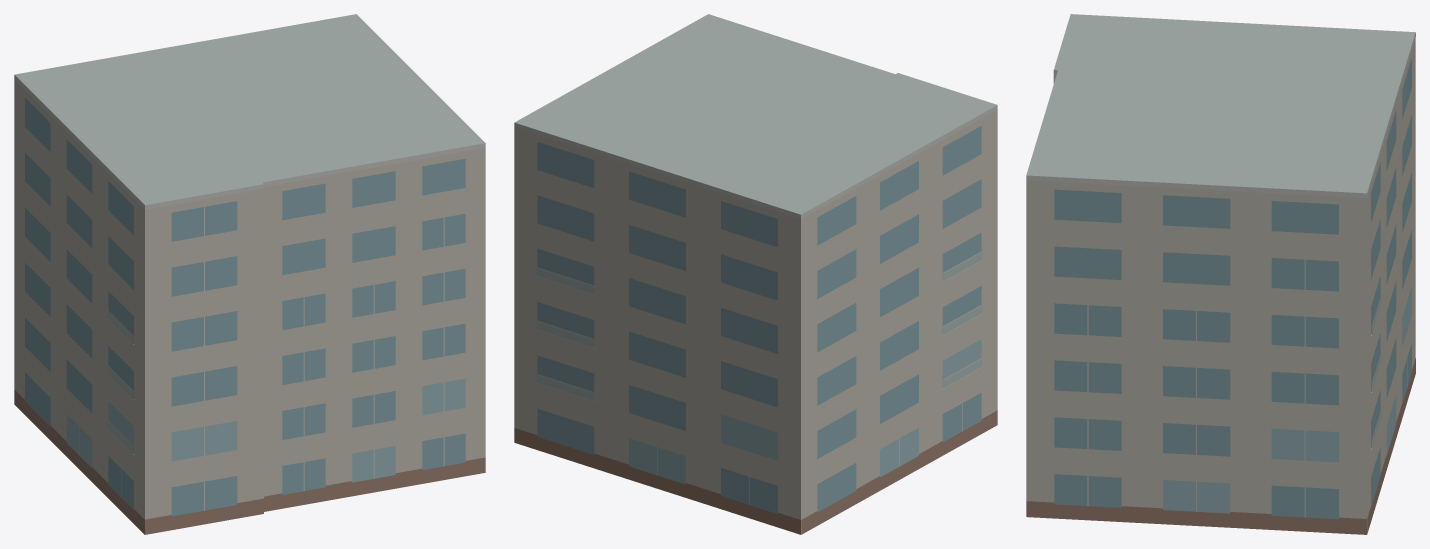
The model's file is survey-upis-32482119.glb.
3 views of the same model, side by side, from view 1: azimuth 30°, elevation 25°; view 2: azimuth 150°, elevation 25°; view 3: azimuth 270°, elevation 25° (orthographic). The views are drawn at different scales.
Visible parts, largest first — view 1: survey-upis-32482119.tmp; view 2: survey-upis-32482119.tmp; view 3: survey-upis-32482119.tmp.
Part boxes in pixels (x1,y1,x2,y2): survey-upis-32482119.tmp: (14,14,485,534); survey-upis-32482119.tmp: (514,14,997,534); survey-upis-32482119.tmp: (1026,14,1415,534).
Bounding box in the file's own units: 19.6 × 17.4 × 18.
